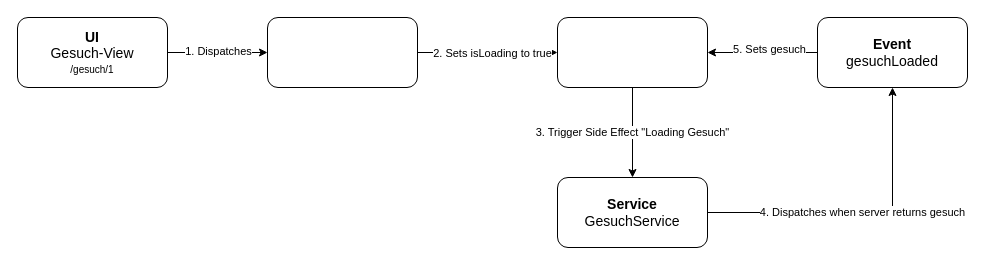
This 985x265 diagram has some shape labels left out. Each missing label, with the centre of its shape:
Event loadGesuch: point 342,52
Store GesuchStore: point 632,52
